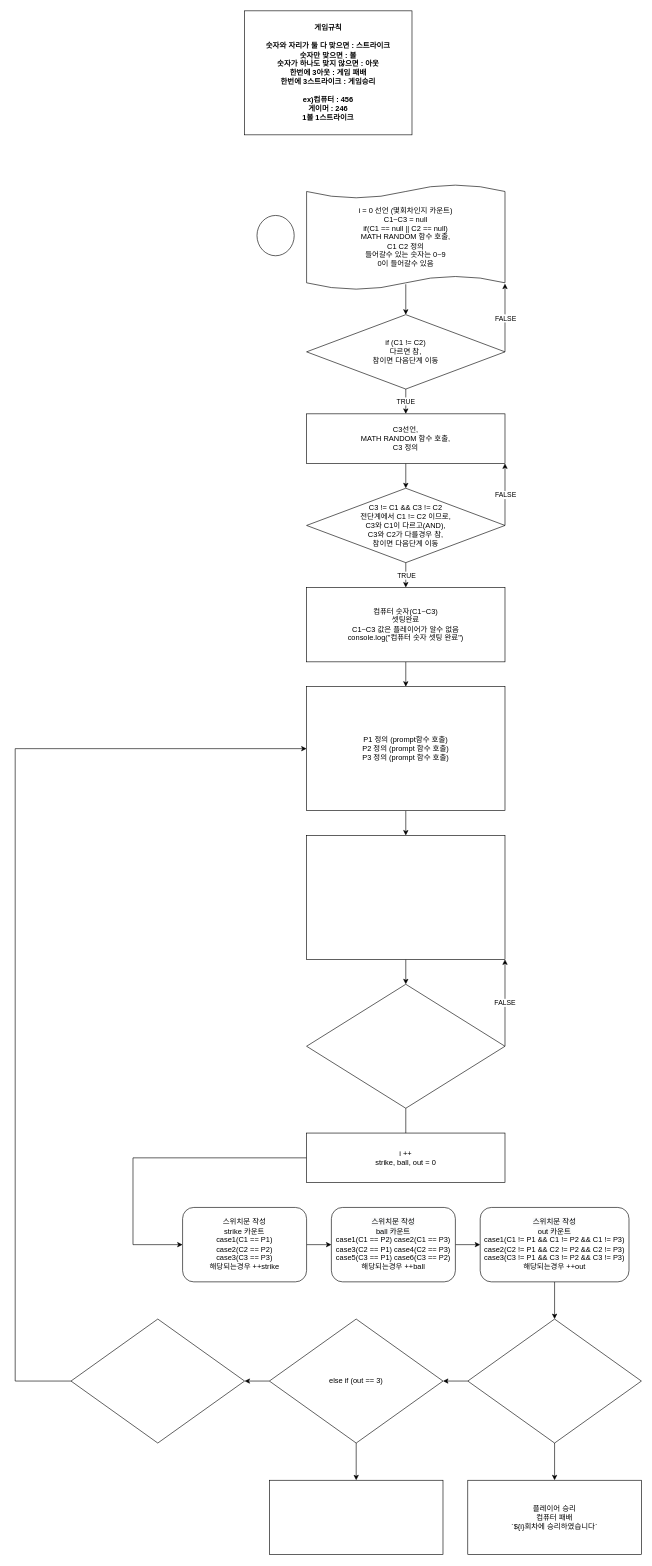
Some shapes in this 652 by 1566 pixel diagram are drawn without their labels. Each missing label, with the centre of its shape:
else { console.log (`${i}회차 결과\n 스트라이크 : ${strike} 볼 : ${ball} 아웃 : ${out}`) }: (157,1380)
if (strike == 3): (554,1380)
세개의 변수의 중복을 확인한다 (P1 != P2) && (P2 != P3) && (P1 != P3) 위 조건을 만족할경우 참: (405,1046)
시 작 !: (275,235)
입력받은 값을 확인한다 0 =< P1 =< 9 0 =< P2 =< 9 0 =< P3 =< 9 (문자열이나 특수문자 등에 대한 예외처리 추가): (405,897)
컴퓨터 승리 플레이어 패배 console.log(`컴퓨터의 숫자는 ${C1}${C2} ${C3}였습니다`): (356,1517)
